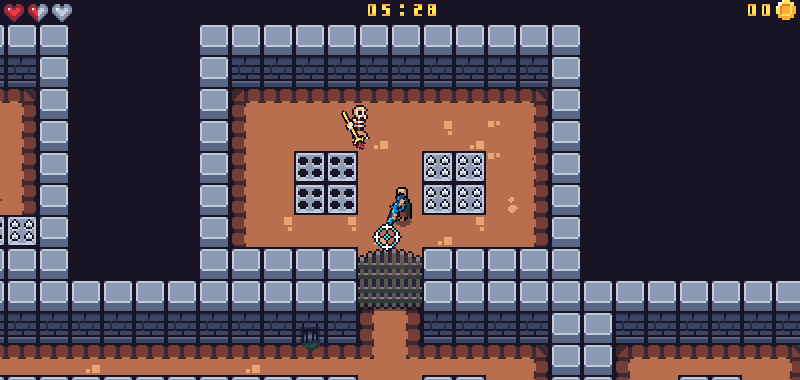enemy_skeleton: (340, 102, 374, 151)
trap_door: (356, 244, 427, 309)
trap_off: (1, 215, 39, 246)
trap_on: (420, 149, 486, 213), (295, 151, 357, 213)
